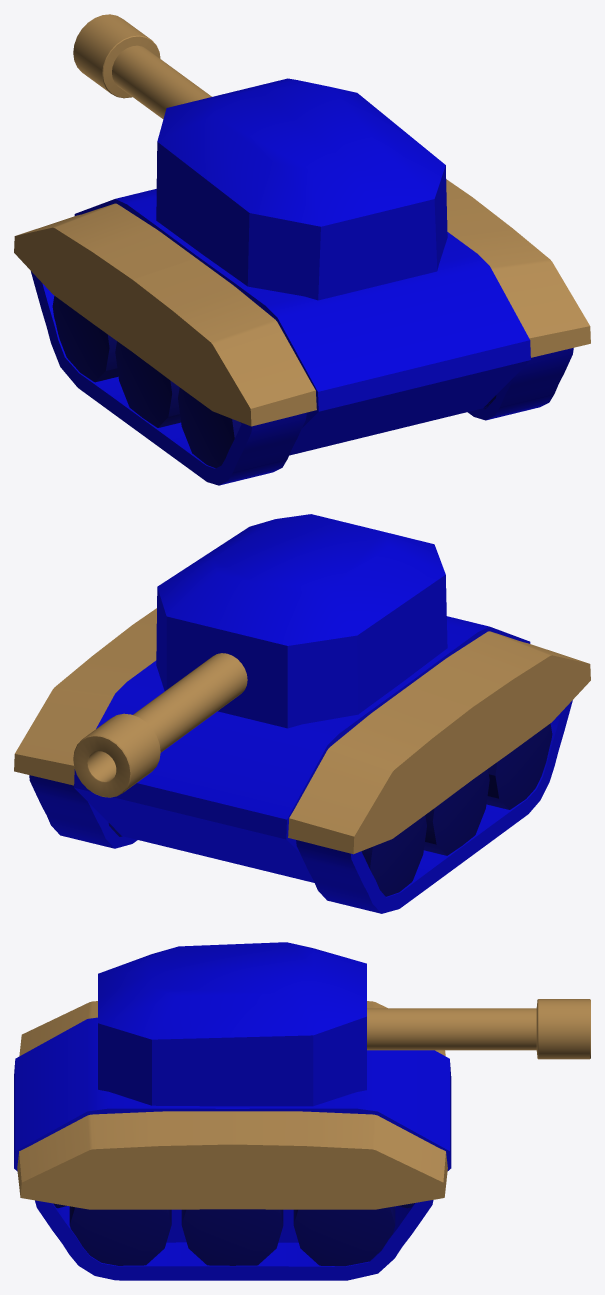
The model's file is tank.fbx.
3 views of the same model, one above another, from view 1: azimuth 30°, elevation 25°; view 2: azimuth 150°, elevation 25°; view 3: azimuth 270°, elevation 25° (orthographic). The views are drawn at different scales.
Parts seen in each view (by area): view 1: base, tourelle; view 2: base, tourelle; view 3: base, tourelle.
Part boxes in pixels (x1,y1,x2,y2): base: (14,179,590,485); tourelle: (73,14,447,300); base: (14,608,590,913); tourelle: (73,514,447,797); base: (14,1001,451,1280); tourelle: (98,942,590,1106).
Bounding box in the file's own units: 311 × 238 × 512.
